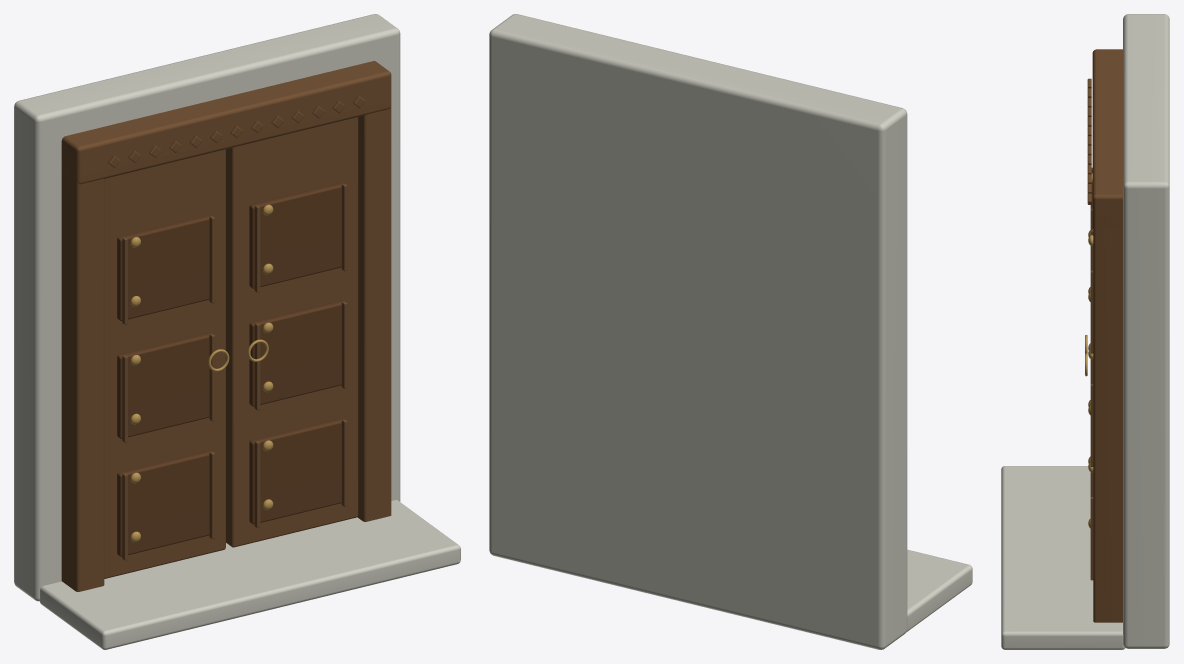
Rendered from coastal-door.glb.
The picture shows the model from 3 angles, left to right: view 1: azimuth 30°, elevation 25°; view 2: azimuth 150°, elevation 25°; view 3: azimuth 270°, elevation 25°; orthographic projection. The views are drawn at different scales.
Parts seen in each view (by area): view 1: Door surround, Door leaf.001, Stone threshold, Door leaf, Carved jamb, Lintel, Carved jamb.001, Recessed door panel.003, Recessed door panel, Recessed door panel.002, Recessed door panel.005, Recessed door panel.001 (+1 smaller); view 2: Door surround, Stone threshold; view 3: Door surround, Stone threshold, Carved jamb.001, Lintel, Panel beading.007, Panel beading.009, Panel beading.011.
Boxes of the visible parts, x1,y1,x2,y2 form: Door surround: (14,14,400,601); Door leaf.001: (226,117,358,547); Stone threshold: (40,500,460,649); Door leaf: (104,149,225,578); Carved jamb: (61,148,104,591); Lintel: (61,61,391,184); Carved jamb.001: (357,106,391,521); Recessed door panel.003: (249,418,343,524); Recessed door panel: (117,450,211,556); Recessed door panel.002: (117,215,211,320); Recessed door panel.005: (249,182,343,288); Recessed door panel.001: (117,333,211,438); Door surround: (489,14,907,649); Stone threshold: (906,549,972,631); Door surround: (1123,14,1169,648); Stone threshold: (1001,466,1124,649); Carved jamb.001: (1093,206,1122,622); Lintel: (1092,49,1122,229); Panel beading.007: (1090,497,1093,580); Panel beading.009: (1090,383,1093,466); Panel beading.011: (1090,270,1093,353).
Size of the model in its own units: 2.6 by 3.31 by 1.08.
